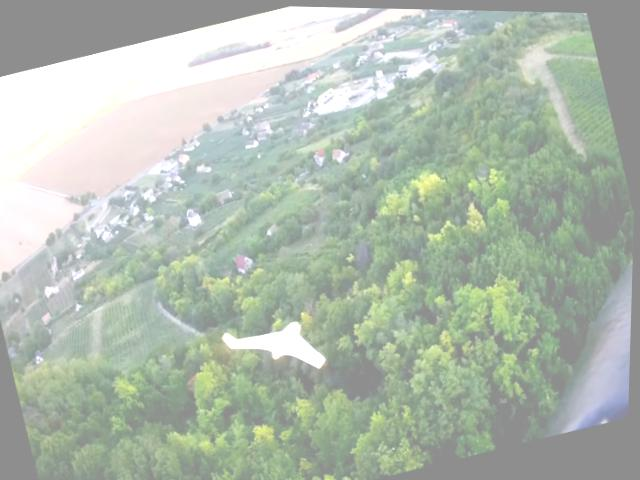plane: (224, 308, 330, 389)
